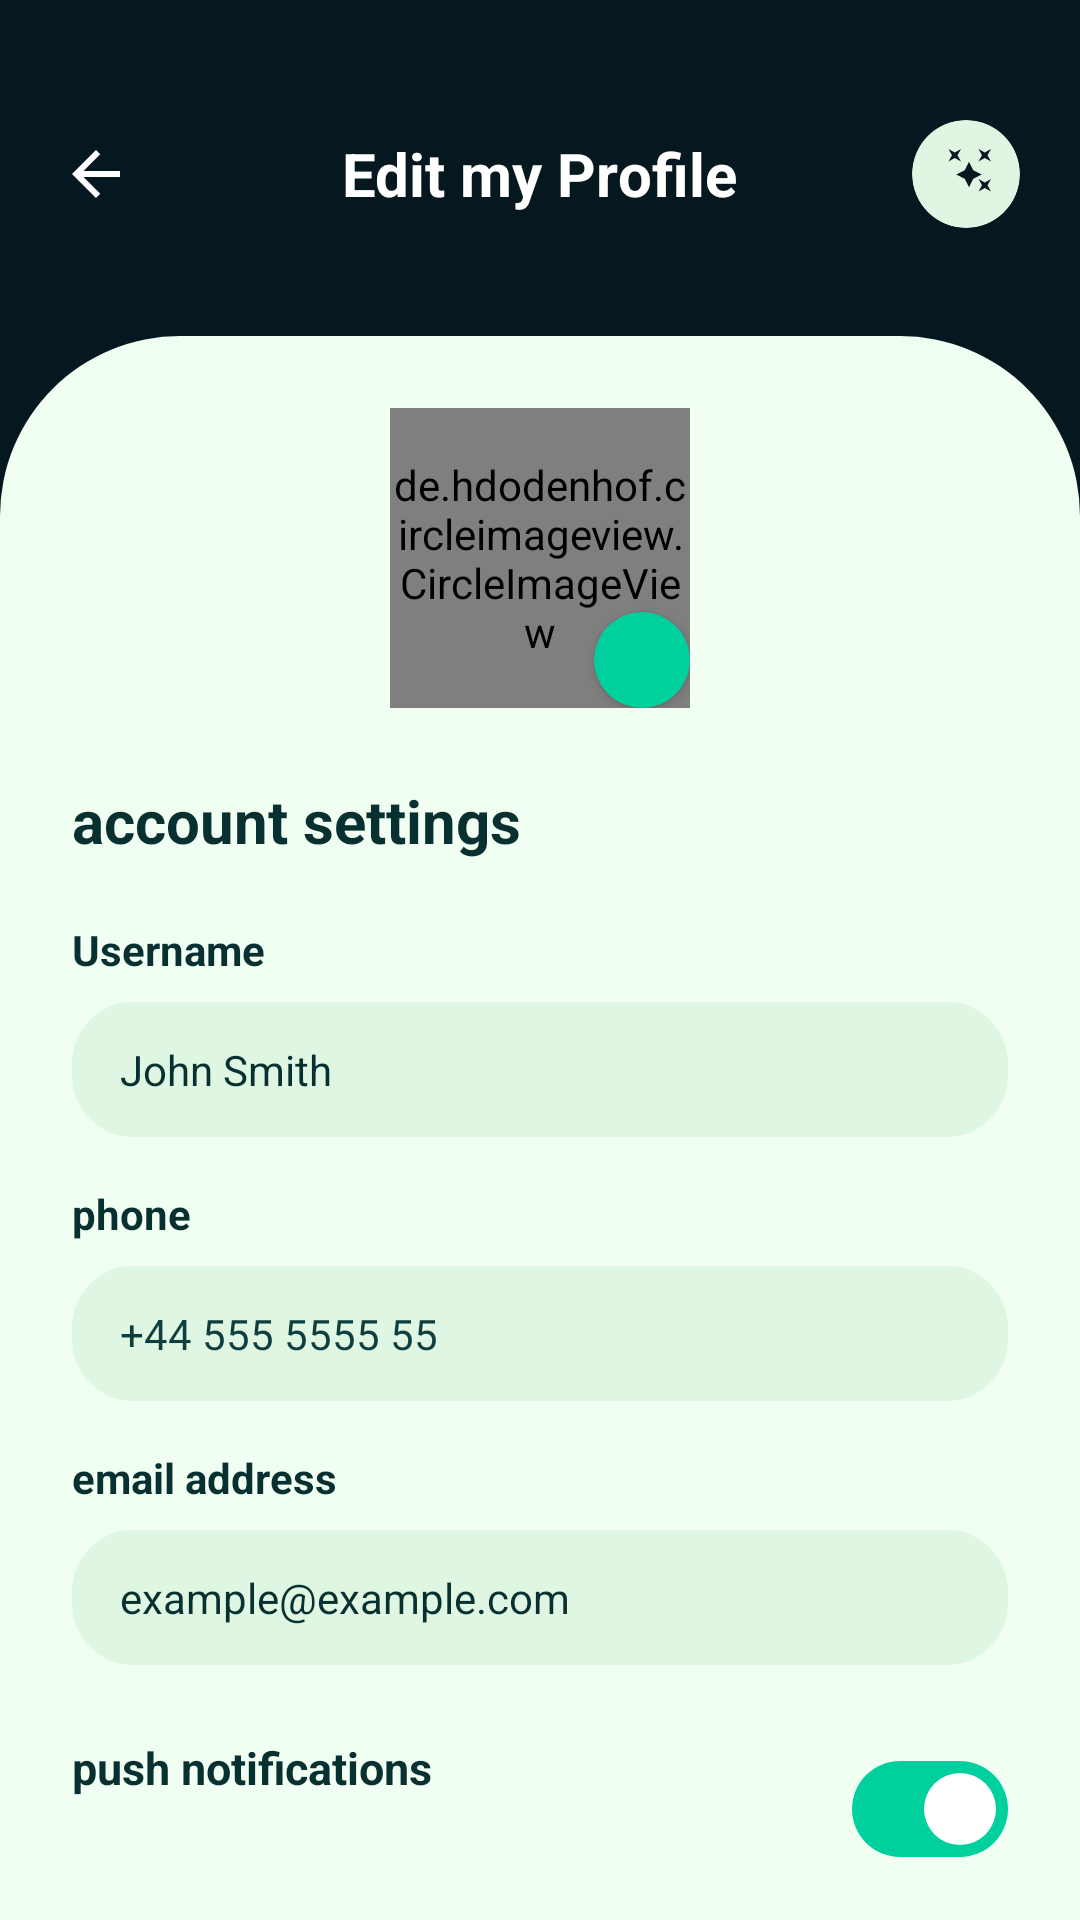

Screen size 1080 × 1920. Icon name, then its center in pixels as point (x, y):
ai stars: point (969, 170)
